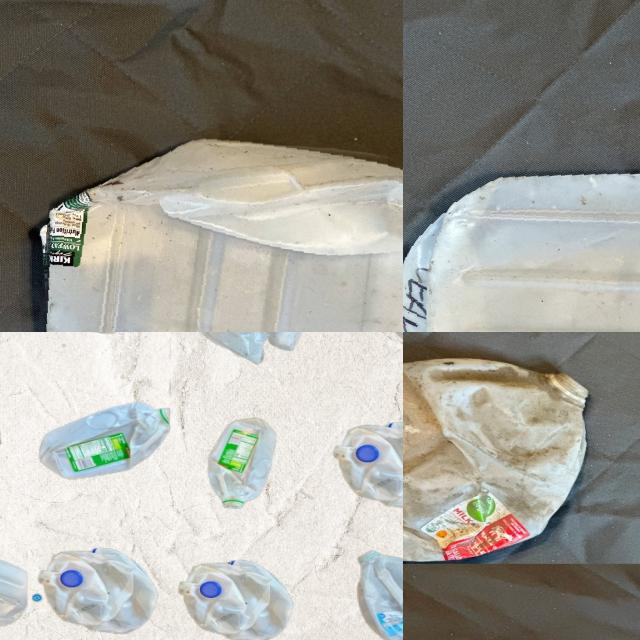milk-jug: (31, 131, 403, 332), (403, 150, 640, 332), (403, 356, 586, 564), (35, 399, 176, 489), (35, 542, 157, 640), (179, 553, 291, 640), (200, 414, 276, 510), (336, 419, 403, 507), (350, 551, 403, 640), (166, 332, 306, 361)
